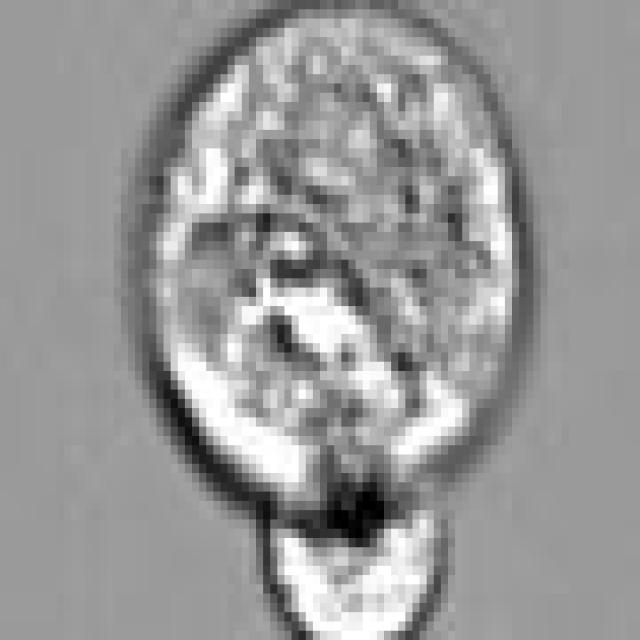Cancer Cell: (142, 9, 526, 492)
WBC: (270, 436, 448, 640)
